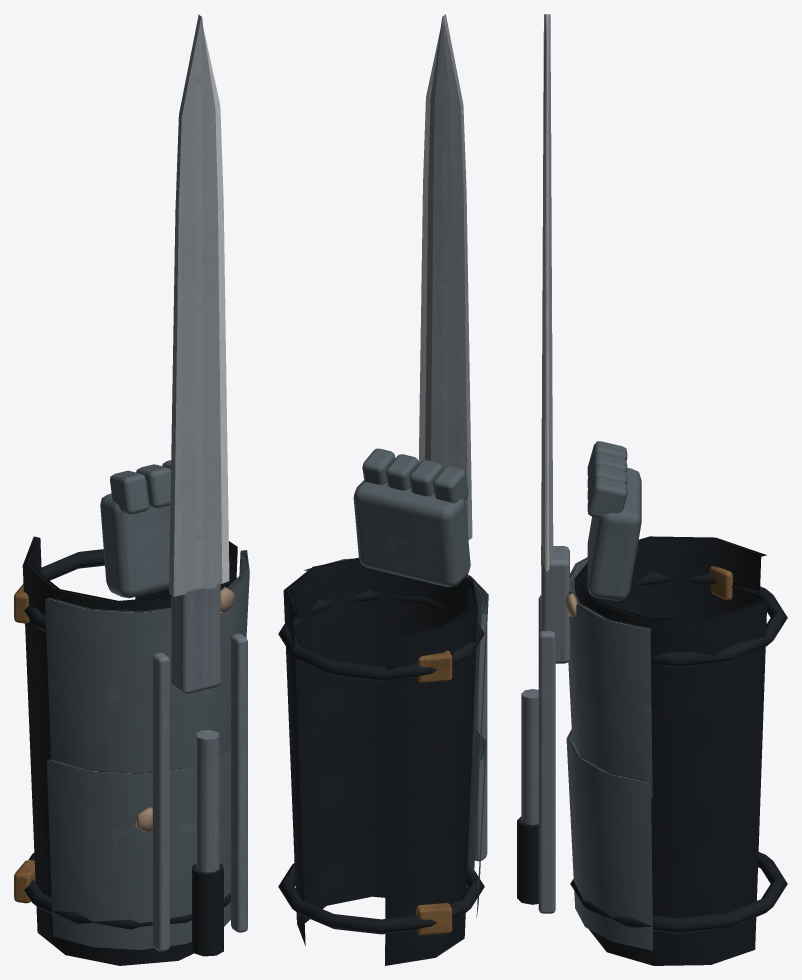
File: servo-blade.lod2.glb
3 views of the same model, side by side, from view 1: azimuth 30°, elevation 25°; view 2: azimuth 150°, elevation 25°; view 3: azimuth 270°, elevation 25° (orthographic). The views are drawn at different scales.
Parts seen in each view (by area): view 1: ceramic / ceramic composite panel, steel / forged blade steel, alloy / machined anodized alloy, polymer / stippled polymer, edge / honed bright bevel, bronze / cast bronze with patina, glaze bead; view 2: polymer / stippled polymer, steel / forged blade steel, ceramic / ceramic composite panel, edge / honed bright bevel, alloy / machined anodized alloy, bronze / cast bronze with patina; view 3: polymer / stippled polymer, ceramic / ceramic composite panel, alloy / machined anodized alloy, steel / forged blade steel, edge / honed bright bevel, bronze / cast bronze with patina.
Part boxes in pixels (<box>): ceramic / ceramic composite panel: <box>45,460,249,949</box>; steel / forged blade steel: <box>169,14,222,596</box>; alloy / machined anodized alloy: <box>152,582,247,951</box>; polymer / stippled polymer: <box>22,536,237,965</box>; edge / honed bright bevel: <box>203,28,229,583</box>; bronze / cast bronze with patina: <box>14,584,35,903</box>; glaze bead: <box>135,587,234,832</box>; polymer / stippled polymer: <box>278,557,484,965</box>; steel / forged blade steel: <box>425,14,472,540</box>; ceramic / ceramic composite panel: <box>304,448,488,917</box>; edge / honed bright bevel: <box>418,30,440,463</box>; alloy / machined anodized alloy: <box>475,614,487,861</box>; bronze / cast bronze with patina: <box>416,650,452,935</box>; polymer / stippled polymer: <box>517,536,787,965</box>; ceramic / ceramic composite panel: <box>566,441,653,950</box>; alloy / machined anodized alloy: <box>521,546,569,913</box>; steel / forged blade steel: <box>541,14,553,568</box>; edge / honed bright bevel: <box>545,14,549,572</box>; bronze / cast bronze with patina: <box>709,566,732,600</box>.
Bounding box in the file's own units: 0.155 × 0.705 × 0.189.
Materials: 7 (6 with a texture image).
